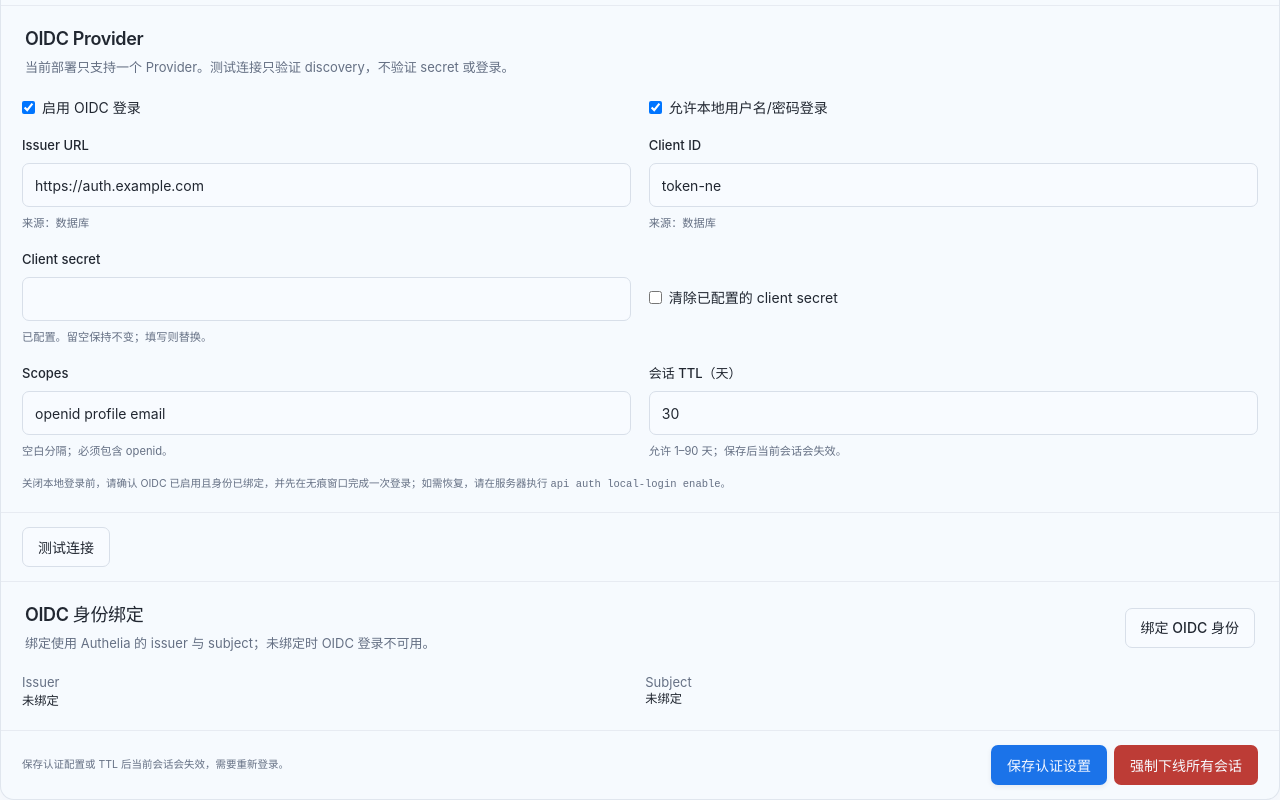
Scenario: system settings › keeps the session when the server reports no changes
(page scrolled)
Expected: the field showing "https://auth.example.com" is shown, [22,164,631,208]
What coordinates should you click on to do the following:
click the button "保存认证设置"
I would click on:
 (1049, 765)
Its box is [991,745,1107,785].
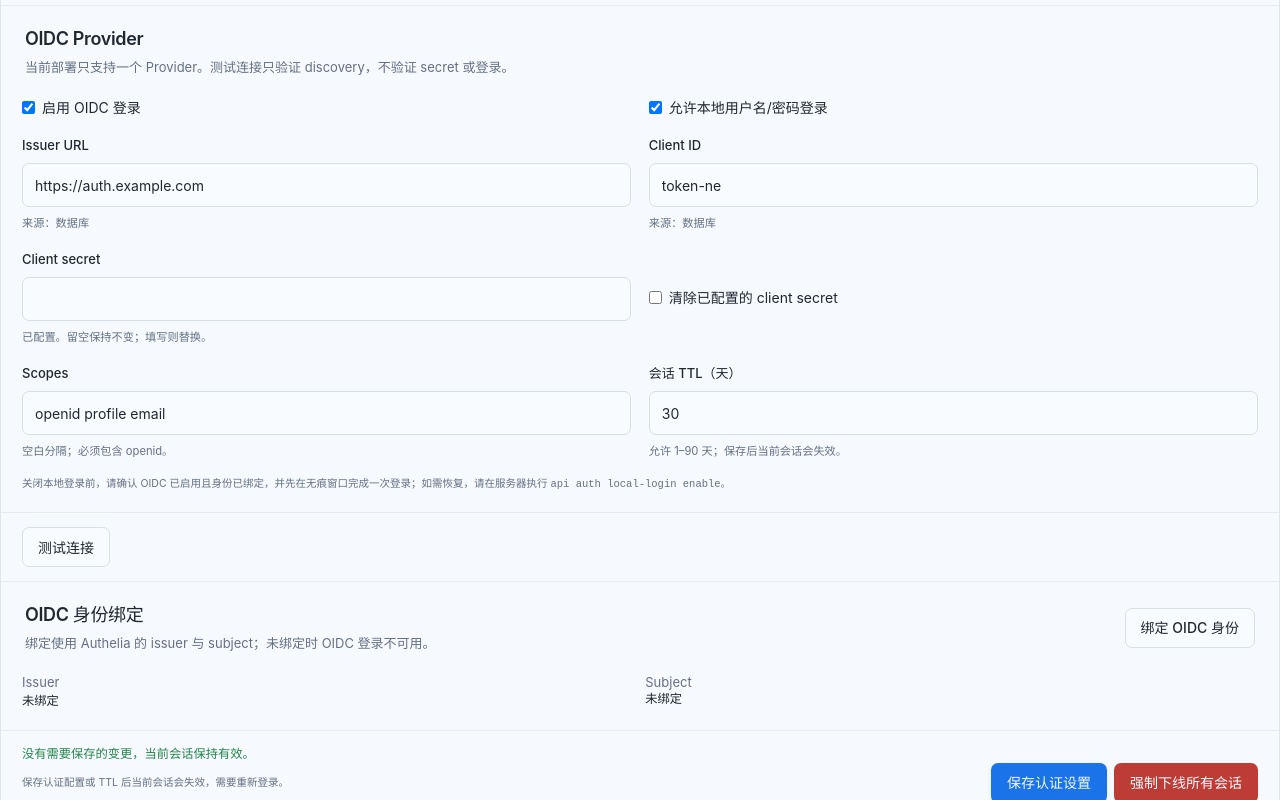
Result: the message reads "没有需要保存的变更，当前会话保持有效。" at [22,746,255,761]
